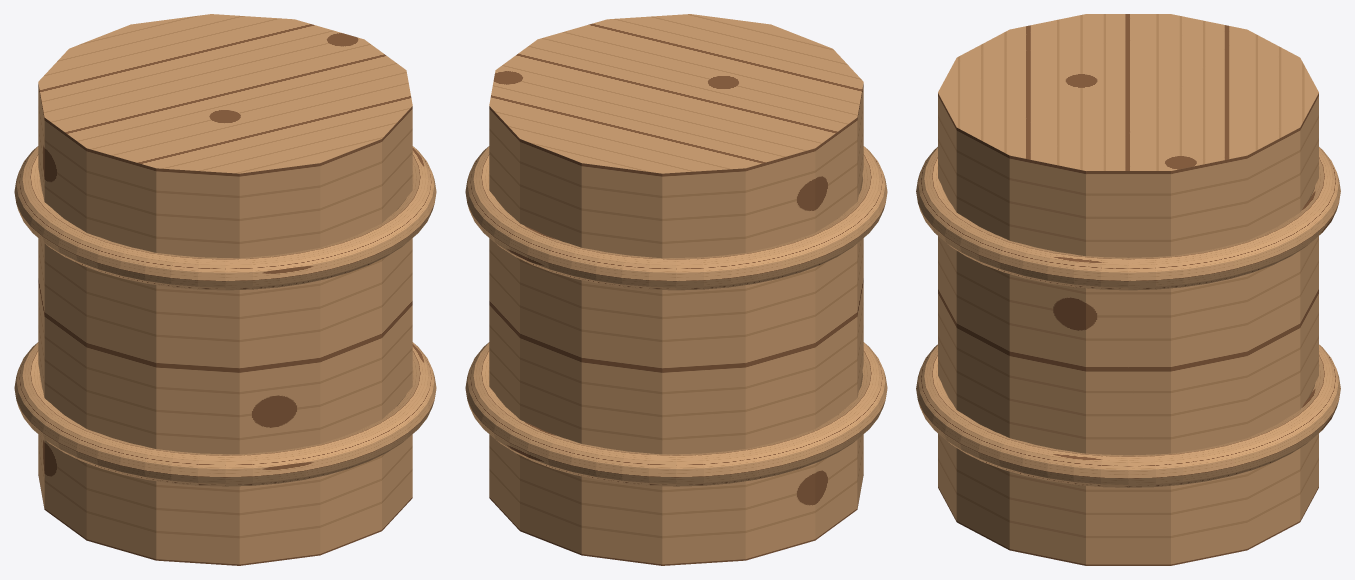
File: Barrel.glb
3 views of the same model, side by side, from view 1: azimuth 30°, elevation 25°; view 2: azimuth 150°, elevation 25°; view 3: azimuth 270°, elevation 25° (orthographic).
Visible parts, largest first — view 1: Barrel; view 2: Barrel; view 3: Barrel.
Boxes of the visible parts, bbox=[...] form: Barrel: bbox=[14, 14, 436, 565]; Barrel: bbox=[465, 14, 887, 565]; Barrel: bbox=[916, 14, 1340, 565].
Size of the model in its own units: 0.78 by 0.8 by 0.78.
Materials: 1 (1 with a texture image).
